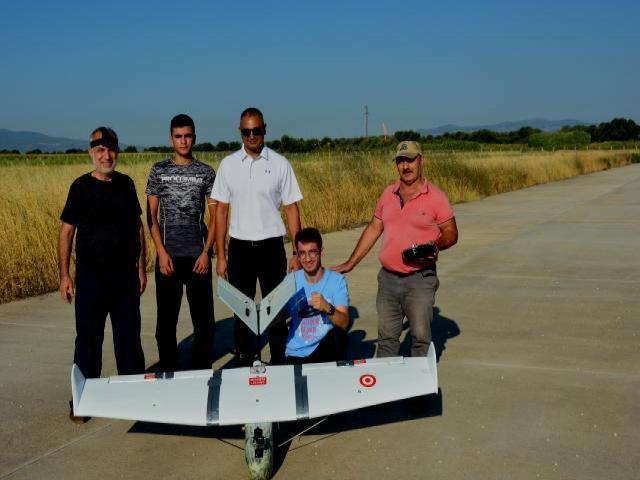iha: (69, 267, 444, 468)
